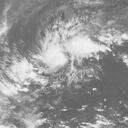cyclone: (35, 25, 104, 74)
